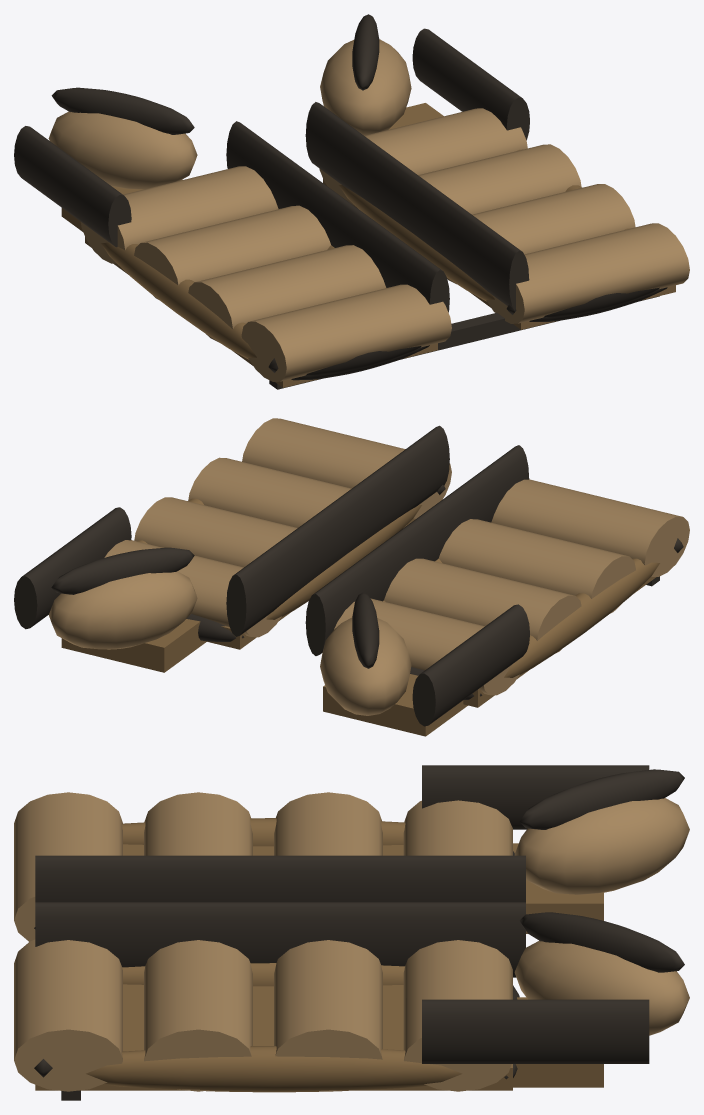
Rendered from CMU3DCivilianJacketTanPufferVestWorldCloud.glb.
3 renders of one model, top to bottom at view 1: azimuth 30°, elevation 25°; view 2: azimuth 150°, elevation 25°; view 3: azimuth 270°, elevation 25°, orthographic. The views are drawn at different scales.
Parts seen in each view (by area): view 1: right bound centre open edge, left joined quilt band 4, right joined quilt band 4, left bound centre open edge, left joined quilt band 3, left joined quilt band 2, left joined quilt band 1, left sloping shoulder front, right joined quilt band 3, right joined quilt band 2, right joined quilt band 1, left bound armhole edge (+10 smaller); view 2: right bound centre open edge, left bound centre open edge, left joined quilt band 4, left joined quilt band 3, right sloping shoulder front, left joined quilt band 2, right joined quilt band 4, right joined quilt band 3, right joined quilt band 2, left bound armhole edge, left sloping shoulder front, right bound armhole edge (+9 smaller); view 3: left bound centre open edge, right bound centre open edge, right bound armhole edge, right joined quilt band 4, right joined quilt band 3, right joined quilt band 2, left sloping shoulder front, right sleeveless open front side fold right, right joined quilt band 1, right sloping shoulder front, left joined quilt band 4, left bound armhole edge (+11 smaller).
Boxes of the visible parts, bbox=[...] form: right bound centre open edge: bbox=[305, 102, 529, 311]; left joined quilt band 4: bbox=[241, 284, 451, 381]; right joined quilt band 4: bbox=[486, 223, 689, 323]; left bound centre open edge: bbox=[226, 121, 449, 312]; left joined quilt band 3: bbox=[188, 245, 386, 342]; left joined quilt band 2: bbox=[134, 205, 330, 299]; left joined quilt band 1: bbox=[80, 166, 278, 263]; left sloping shoulder front: bbox=[48, 111, 197, 189]; right joined quilt band 3: bbox=[447, 184, 635, 284]; right joined quilt band 2: bbox=[418, 144, 581, 214]; right joined quilt band 1: bbox=[319, 108, 527, 205]; left bound armhole edge: bbox=[14, 126, 131, 247]; right bound centre open edge: bbox=[226, 425, 449, 636]; left bound centre open edge: bbox=[305, 445, 529, 655]; left joined quilt band 4: bbox=[491, 479, 689, 576]; left joined quilt band 3: bbox=[438, 519, 635, 613]; right sloping shoulder front: bbox=[49, 571, 197, 649]; left joined quilt band 2: bbox=[384, 558, 581, 652]; right joined quilt band 4: bbox=[242, 418, 451, 518]; right joined quilt band 3: bbox=[188, 457, 351, 527]; right joined quilt band 2: bbox=[134, 497, 297, 567]; left bound armhole edge: bbox=[412, 604, 529, 726]; left sloping shoulder front: bbox=[320, 617, 411, 715]; right bound armhole edge: bbox=[14, 507, 131, 629]; left bound centre open edge: bbox=[35, 855, 525, 902]; right bound centre open edge: bbox=[35, 902, 525, 977]; right bound armhole edge: bbox=[422, 999, 649, 1063]; right joined quilt band 4: bbox=[14, 939, 122, 1091]; right joined quilt band 3: bbox=[144, 940, 252, 1091]; right joined quilt band 2: bbox=[274, 940, 382, 1091]; left sloping shoulder front: bbox=[514, 798, 689, 894]; right sleeveless open front side fold right: bbox=[86, 1046, 462, 1092]; right joined quilt band 1: bbox=[403, 940, 512, 1091]; right sloping shoulder front: bbox=[514, 940, 689, 1035]; left joined quilt band 4: bbox=[14, 792, 122, 941]; left bound armhole edge: bbox=[422, 765, 649, 829].
Size of the model in its own units: 0.2825 by 0.073 by 0.3252.
